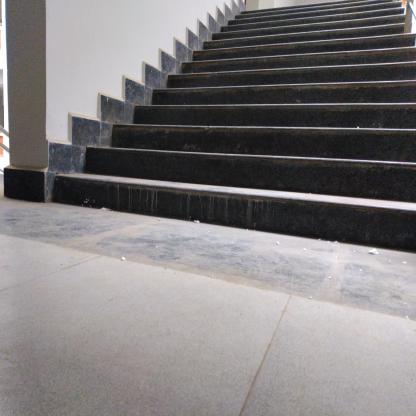stairs: (241, 10, 401, 250)
